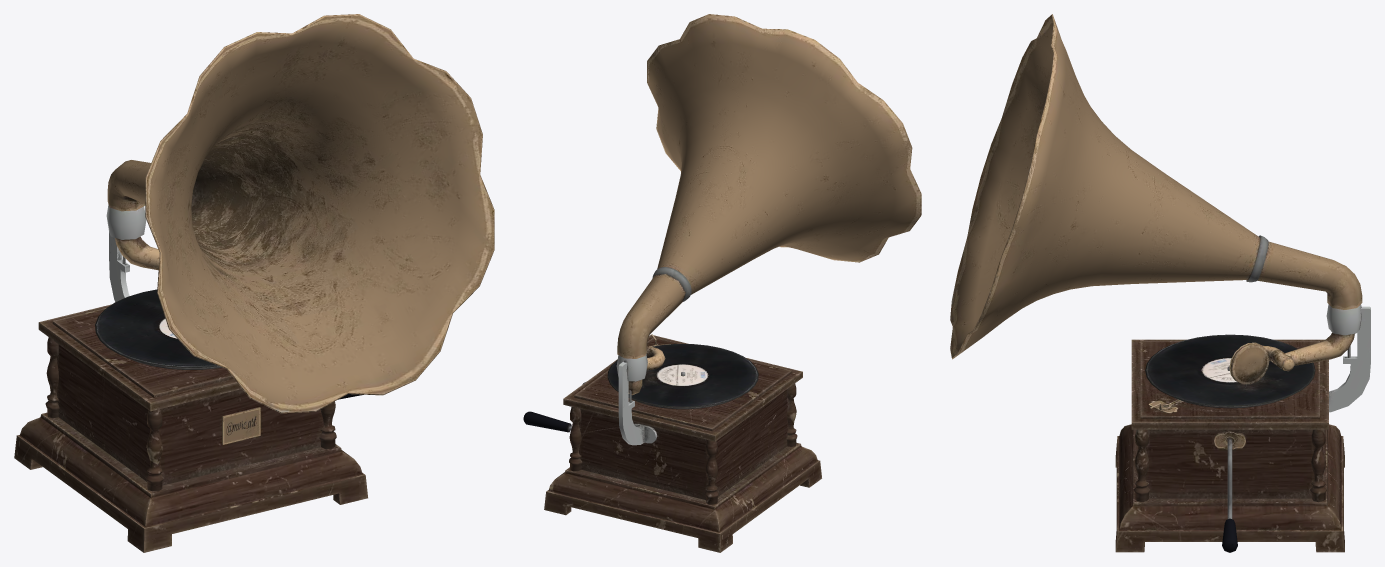
Rendered from gramophone.glb.
3 renders of one model, left to right at view 1: azimuth 30°, elevation 25°; view 2: azimuth 150°, elevation 25°; view 3: azimuth 270°, elevation 25°, orthographic. The views are drawn at different scales.
Visible parts, largest first — view 1: Plane.001, Cube.001, Cube.003, Cube.002, Cylinder.003, Plane.007, Plane.003, Cylinder.002, Plane; view 2: Plane.001, Cube.001, Cube.003, Cylinder.003, Cube.002, Plane, Cylinder.001, Plane.003; view 3: Plane.001, Cube.001, Cube.003, Cylinder.003, Plane, Cube.002, Cylinder.002, Cylinder.006, Plane.003.
Part boxes in pixels (x1,y1,x2,y2): Plane.001: [145, 14, 494, 413]; Cube.001: [14, 304, 367, 552]; Cube.003: [95, 289, 218, 367]; Cube.002: [45, 337, 336, 491]; Cylinder.003: [107, 160, 151, 211]; Plane.007: [222, 407, 260, 444]; Plane.003: [106, 204, 146, 239]; Cylinder.002: [115, 236, 159, 270]; Plane: [109, 231, 129, 301]; Plane.001: [647, 14, 921, 294]; Cube.001: [544, 335, 821, 552]; Cube.003: [607, 344, 758, 407]; Cylinder.003: [617, 273, 686, 358]; Cube.002: [569, 383, 797, 504]; Plane: [618, 361, 657, 445]; Cylinder.001: [523, 411, 571, 432]; Plane.003: [616, 354, 647, 381]; Plane.001: [950, 14, 1260, 359]; Cube.001: [1115, 339, 1344, 552]; Cube.003: [1145, 334, 1315, 406]; Cylinder.003: [1257, 241, 1362, 309]; Plane: [1329, 306, 1370, 412]; Cube.002: [1133, 429, 1326, 502]; Cylinder.002: [1270, 332, 1354, 371]; Cylinder.006: [1229, 342, 1269, 384]; Plane.003: [1326, 304, 1361, 335].
Bounding box in the file's own units: 0.5131 × 0.7 × 0.5727.
1 material, 1 textured.
